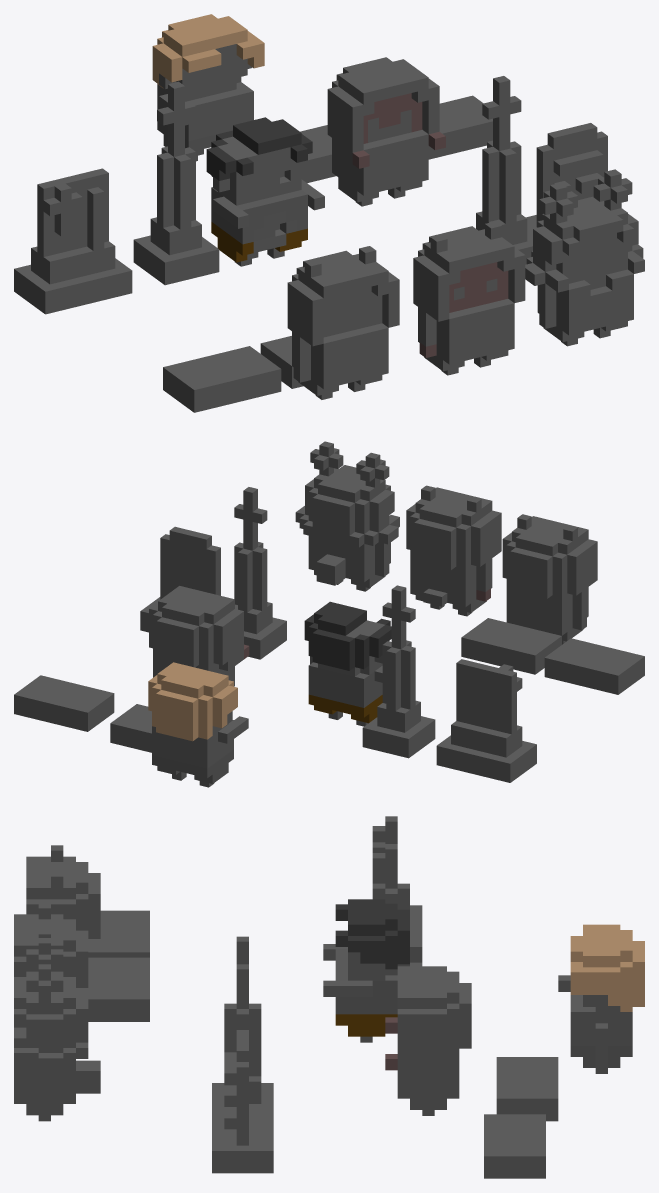
The model's file is scene_grave.obj.
The picture shows the model from 3 angles, top to bottom: view 1: azimuth 30°, elevation 25°; view 2: azimuth 150°, elevation 25°; view 3: azimuth 270°, elevation 25°; orthographic projection. The views are drawn at different scales.
Bounding box in the file's own units: 48 × 16 × 51.
